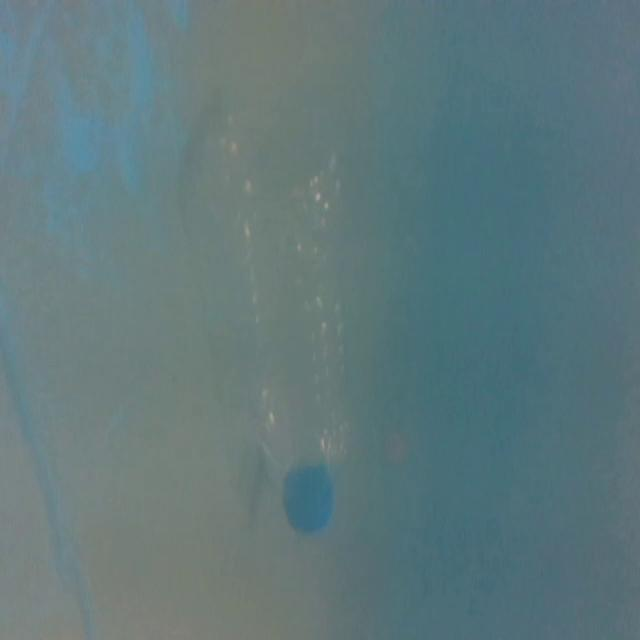plastic bottle: (199, 88, 370, 542)
